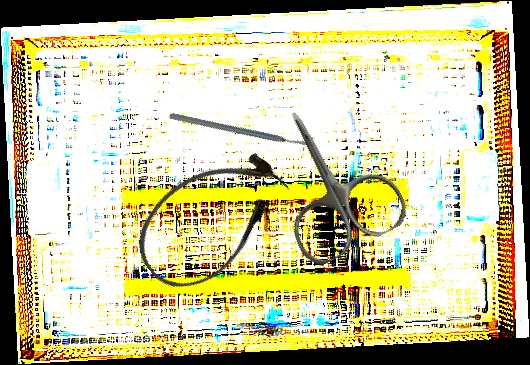Cannula: (118, 131, 304, 307)
Chopper: (167, 62, 316, 194)
Iris Scissors: (243, 86, 414, 271)
